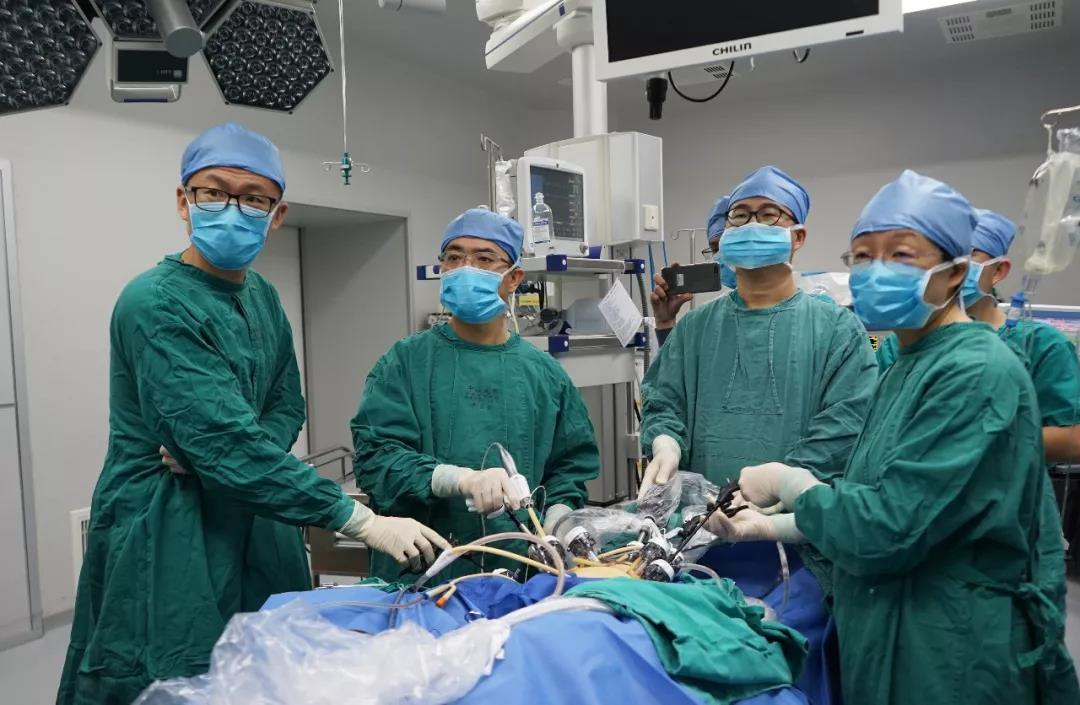mask: (850, 261, 937, 330), (189, 201, 269, 268), (439, 267, 508, 326), (719, 220, 794, 269)
